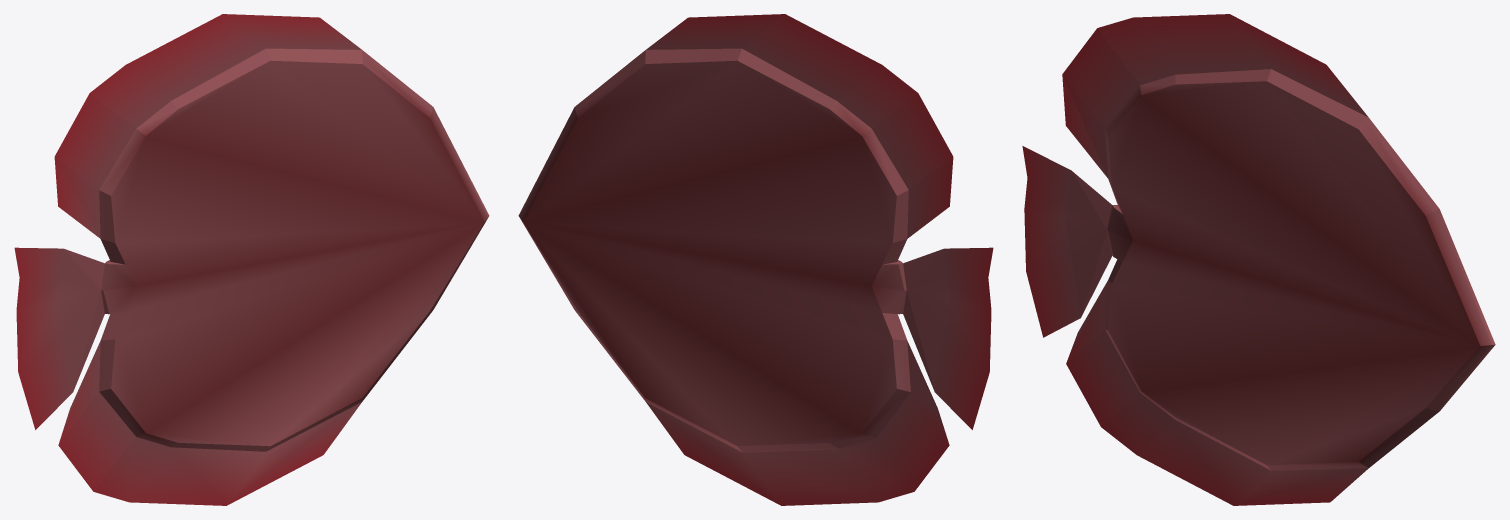
File: peixeCoracao.fbx
The picture shows the model from 3 angles, left to right: view 1: azimuth 30°, elevation 25°; view 2: azimuth 150°, elevation 25°; view 3: azimuth 330°, elevation 25°; orthographic projection.
Parts seen in each view (by area): view 1: peixeCoração; view 2: peixeCoração; view 3: peixeCoração.
Part boxes in pixels (left/top/right/bottom): peixeCoração: left=14, top=14, right=489, bottom=505; peixeCoração: left=518, top=14, right=993, bottom=505; peixeCoração: left=1022, top=14, right=1495, bottom=505.
Size of the model in its own units: 90.51 by 89.75 by 3.96.
